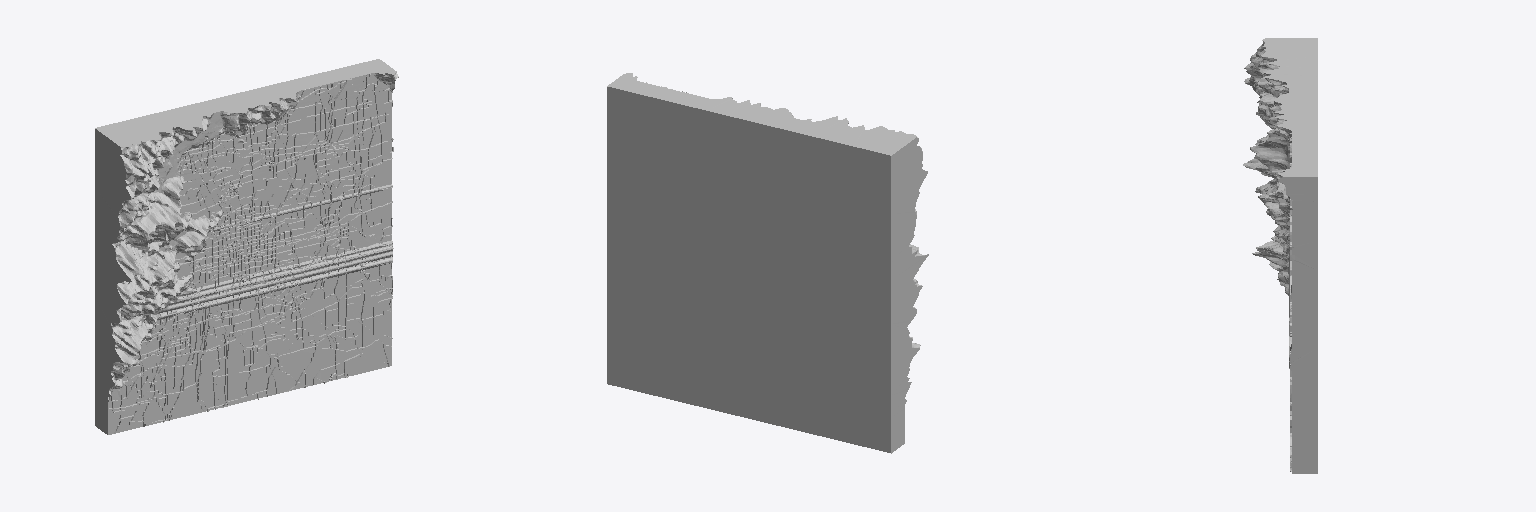
File: Beijing.obj
The picture shows the model from 3 angles: view 1: azimuth 30°, elevation 25°; view 2: azimuth 150°, elevation 25°; view 3: azimuth 270°, elevation 25°; orthographic projection.
Parts seen in each view (by area): view 1: BeijingLow; view 2: BeijingLow; view 3: BeijingLow.
Part boxes in pixels (x1,y1,x2,y2): BeijingLow: (95,59,398,434); BeijingLow: (607,73,928,453); BeijingLow: (1243,38,1317,473).
Bounding box in the file's own units: 1837 × 1836 × 423.